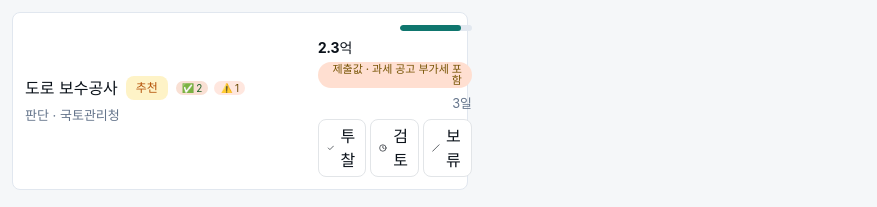
it: OpportunityRow inline actions › 404 응답은 한국어 에러 토스트를 띄운다
This screenshot has width=877, height=207.
Click the button with aria-label "투찰로 전환" at (342, 148), box [318,119,366,177]
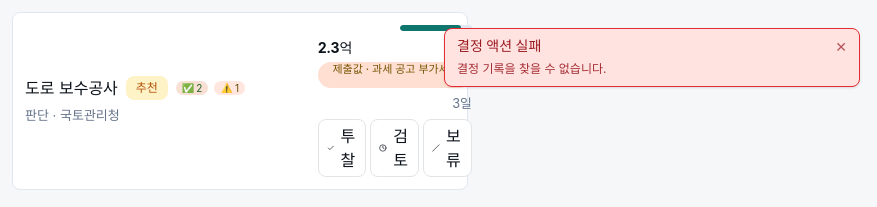
Expected: the text "결정 액션 실패" is shown, [457,37,541,54]
Expected: the text "결정 기록을 찾을 수 없습니다." is shown, [457,61,606,76]
